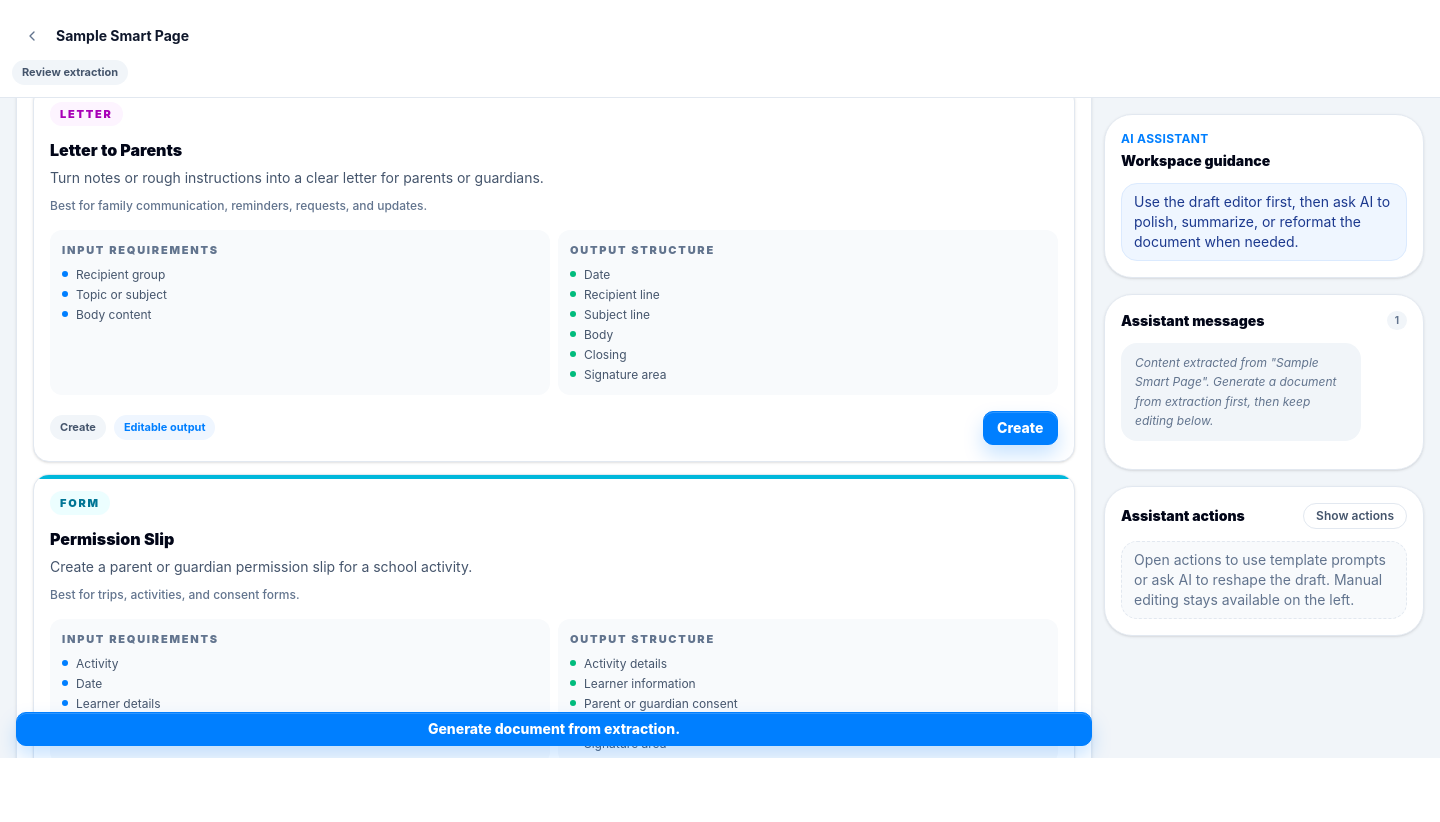
DocumentEditorPage ? Smart Pages flow › uses the Letter to Parents template and sends the right generation prompt
(page scrolled)
Click the button with aria-label "Letter to Parents" at (1020, 428), box [982,410,1058,444]
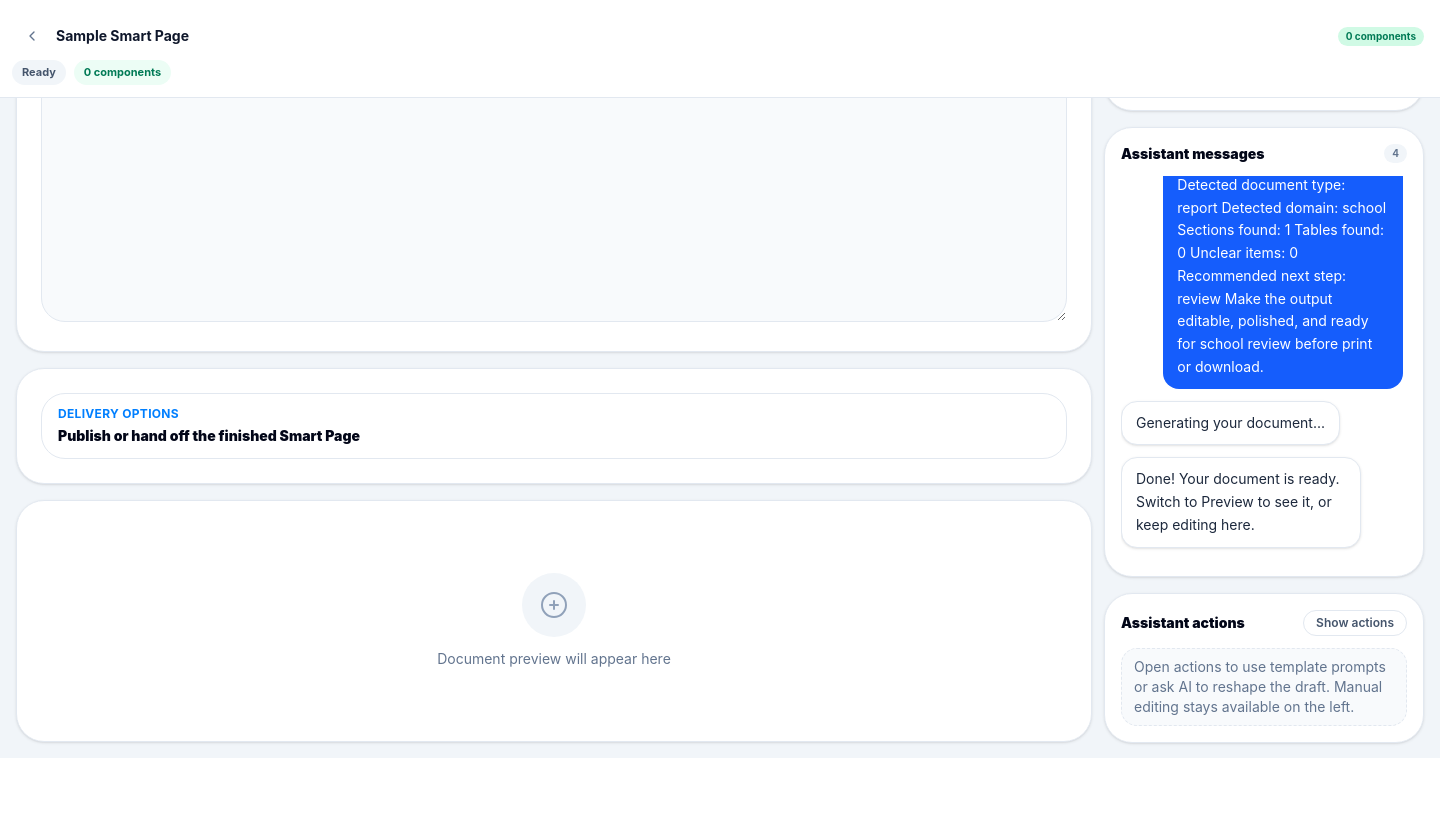
Expected: the text "Done! Your document is ready" is shown, [1136,470,1340,532]
